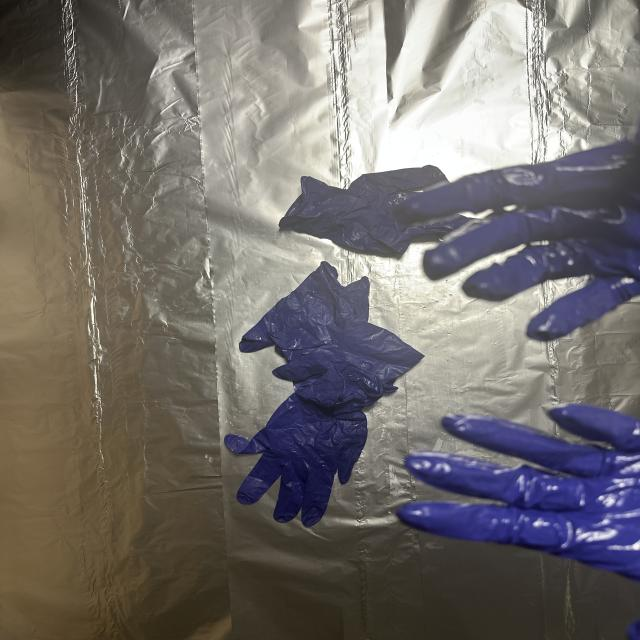gloves_contaminated: (393, 128, 640, 341), (398, 404, 640, 581)
